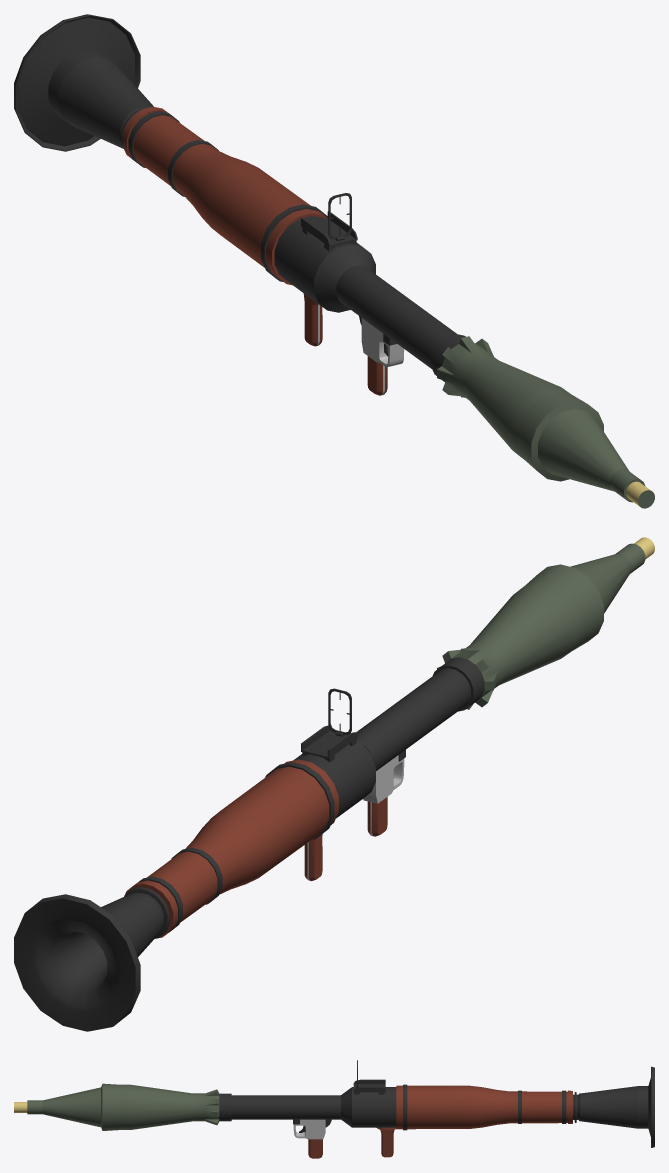
Rendered from RPG7.fbx.
3 renders of one model, top to bottom at view 1: azimuth 30°, elevation 25°; view 2: azimuth 150°, elevation 25°; view 3: azimuth 270°, elevation 25°, orthographic. The views are drawn at different scales.
Parts seen in each view (by area): view 1: RPG Projectile, Barrel Back, Barrel Middle, Barrel Front, Rings, Trigger Case, Sight Holder, Back Grip; view 2: Barrel Back, Barrel Middle, RPG Projectile, Barrel Front, Rings, Sight Holder, Trigger Case, Back Grip; view 3: RPG Projectile, Barrel Middle, Barrel Front, Barrel Back, Trigger Case, Rings, Sight Holder, Back Grip, Trigger Grip.
Boxes of the visible parts, x1,y1,x2,y2 form: RPG Projectile: (437, 336, 654, 508); Barrel Back: (14, 14, 153, 151); Barrel Middle: (122, 106, 327, 285); Barrel Front: (274, 216, 465, 381); Rings: (128, 111, 327, 281); Trigger Case: (359, 316, 404, 367); Sight Holder: (301, 211, 357, 250); Back Grip: (303, 293, 322, 346); Barrel Back: (14, 887, 169, 1031); Barrel Middle: (125, 759, 338, 938); RPG Projectile: (437, 537, 654, 709); Barrel Front: (293, 657, 484, 818); Rings: (139, 762, 334, 932); Sight Holder: (301, 725, 357, 762); Trigger Case: (363, 750, 405, 803); Back Grip: (304, 834, 322, 881); RPG Projectile: (14, 1083, 219, 1130); Barrel Middle: (396, 1085, 572, 1129); Barrel Front: (219, 1087, 396, 1127); Barrel Back: (573, 1066, 654, 1147); Trigger Case: (293, 1119, 331, 1139); Rings: (403, 1084, 566, 1130); Sight Holder: (353, 1079, 385, 1094); Back Grip: (376, 1127, 396, 1157); Trigger Grip: (308, 1139, 322, 1158).
Bounding box in the file's own units: 366 × 2901 × 479.
